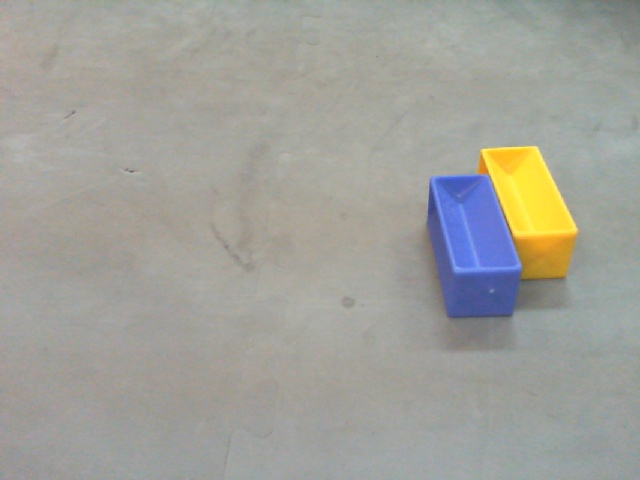BlueSample: (425, 170, 522, 325)
YellowSample: (475, 131, 580, 284)
